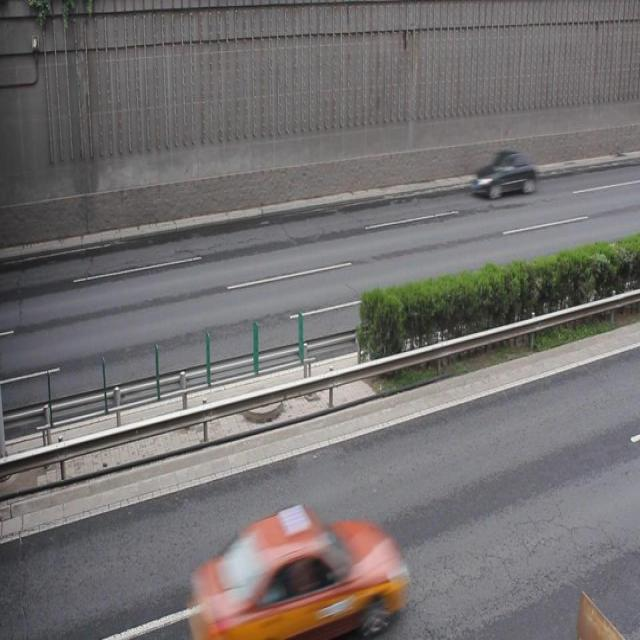car: (188, 500, 404, 640), (468, 148, 538, 198)
